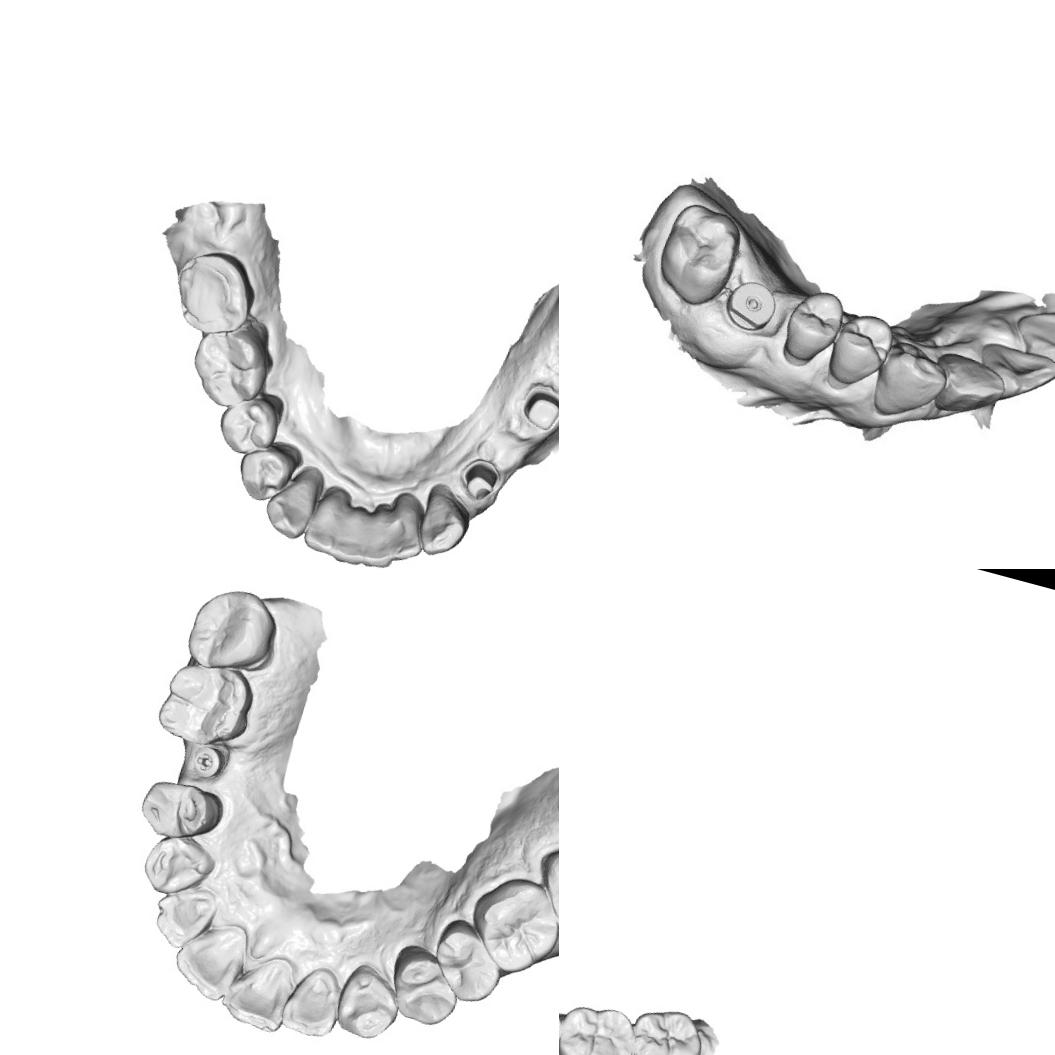abutment: (513, 377, 559, 436), (454, 453, 504, 504)
canine: (327, 958, 409, 1045), (134, 825, 222, 905), (870, 342, 948, 429), (412, 480, 478, 564), (259, 459, 325, 543)
implant: (720, 276, 779, 338)
implant_plus: (183, 739, 231, 783)
incisor: (164, 914, 253, 1006), (218, 944, 298, 1036), (148, 874, 224, 954), (931, 348, 1008, 426), (276, 959, 348, 1041), (980, 340, 1055, 405), (380, 490, 436, 567), (299, 479, 350, 556), (327, 500, 375, 569), (357, 501, 405, 569), (1017, 303, 1055, 374)
molar: (178, 577, 288, 685), (459, 864, 559, 982), (149, 654, 262, 756), (651, 196, 750, 306), (161, 240, 264, 343), (183, 310, 282, 416), (559, 994, 644, 1055), (620, 999, 710, 1055), (523, 829, 559, 946)
premolar: (379, 938, 470, 1033), (423, 912, 511, 1008), (130, 771, 228, 851), (229, 430, 305, 510), (212, 384, 287, 462), (824, 310, 892, 392), (783, 288, 844, 368)
